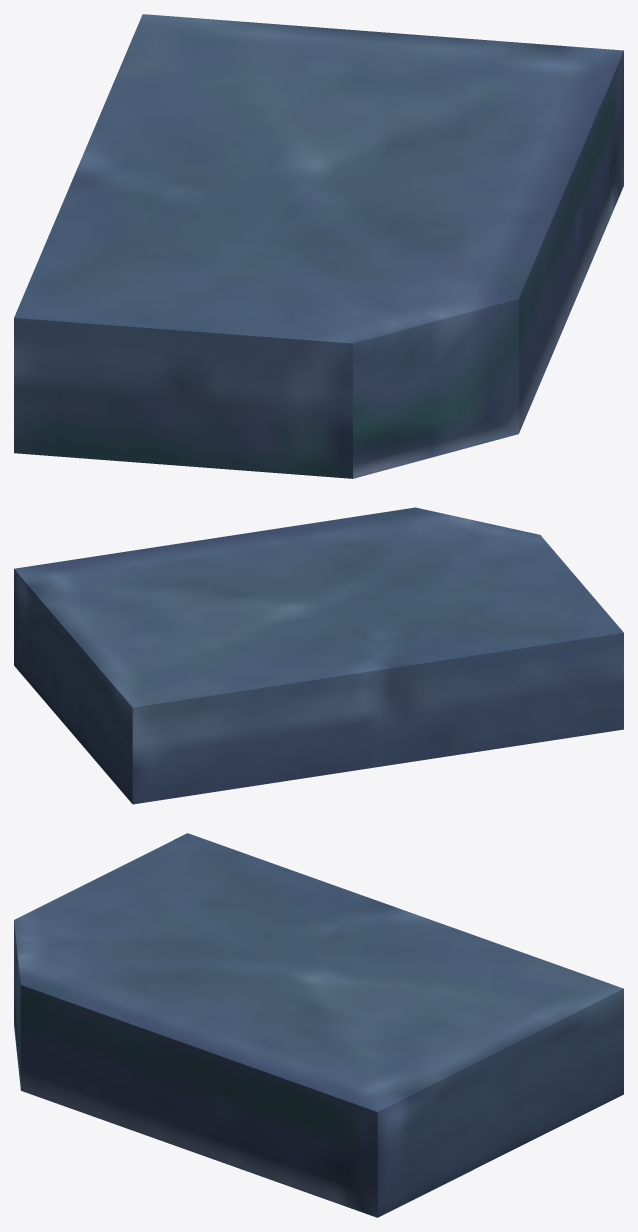
File: Area13_20.fbx
The picture shows the model from 3 angles, top to bottom: view 1: azimuth 30°, elevation 25°; view 2: azimuth 150°, elevation 25°; view 3: azimuth 270°, elevation 25°; orthographic projection. The views are drawn at different scales.
Parts seen in each view (by area): view 1: Area13_20; view 2: Area13_20; view 3: Area13_20.
Boxes of the visible parts, x1,y1,x2,y2 form: Area13_20: (14, 14, 623, 478); Area13_20: (14, 507, 623, 804); Area13_20: (14, 833, 623, 1217).
Bounding box in the file's own units: 231 × 40.84 × 213.
1 material, 1 textured.
